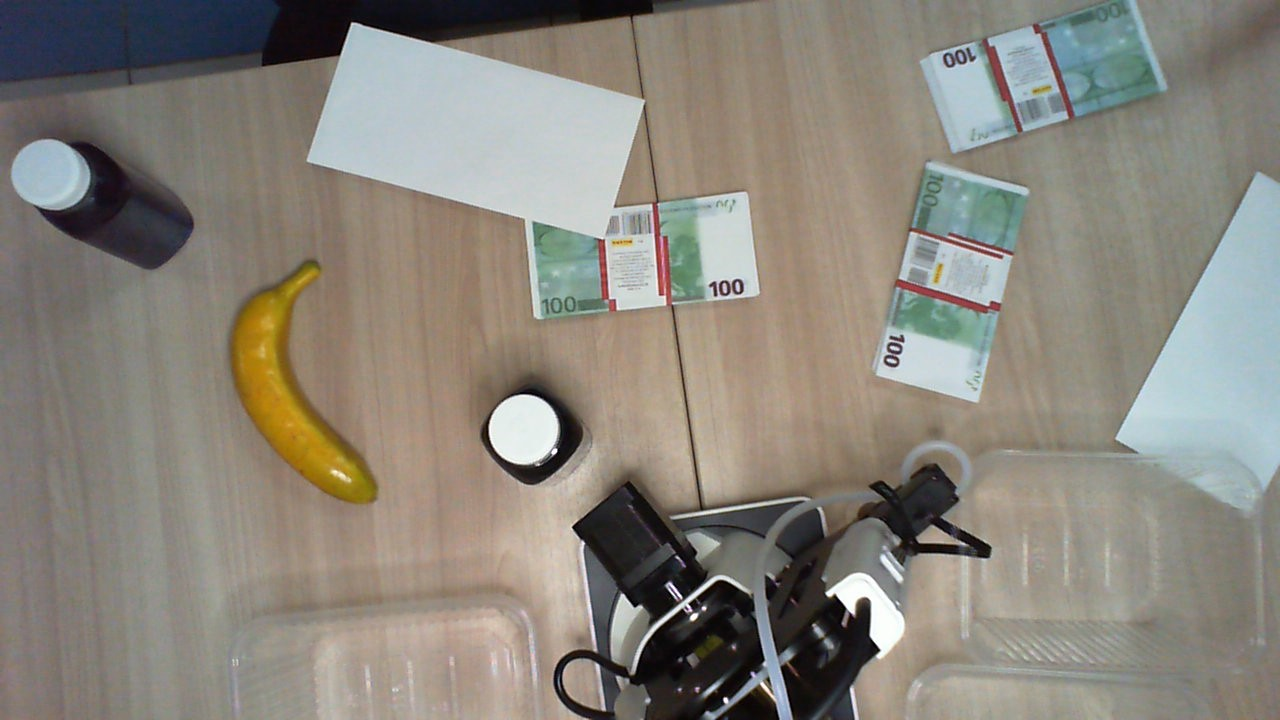banana: (227, 260, 380, 504)
bottle: (8, 132, 117, 249), (480, 385, 576, 485)
convert: (307, 21, 646, 237), (1115, 170, 1280, 515)
money: (873, 156, 1029, 403), (918, 1, 1165, 150), (523, 190, 763, 326)
